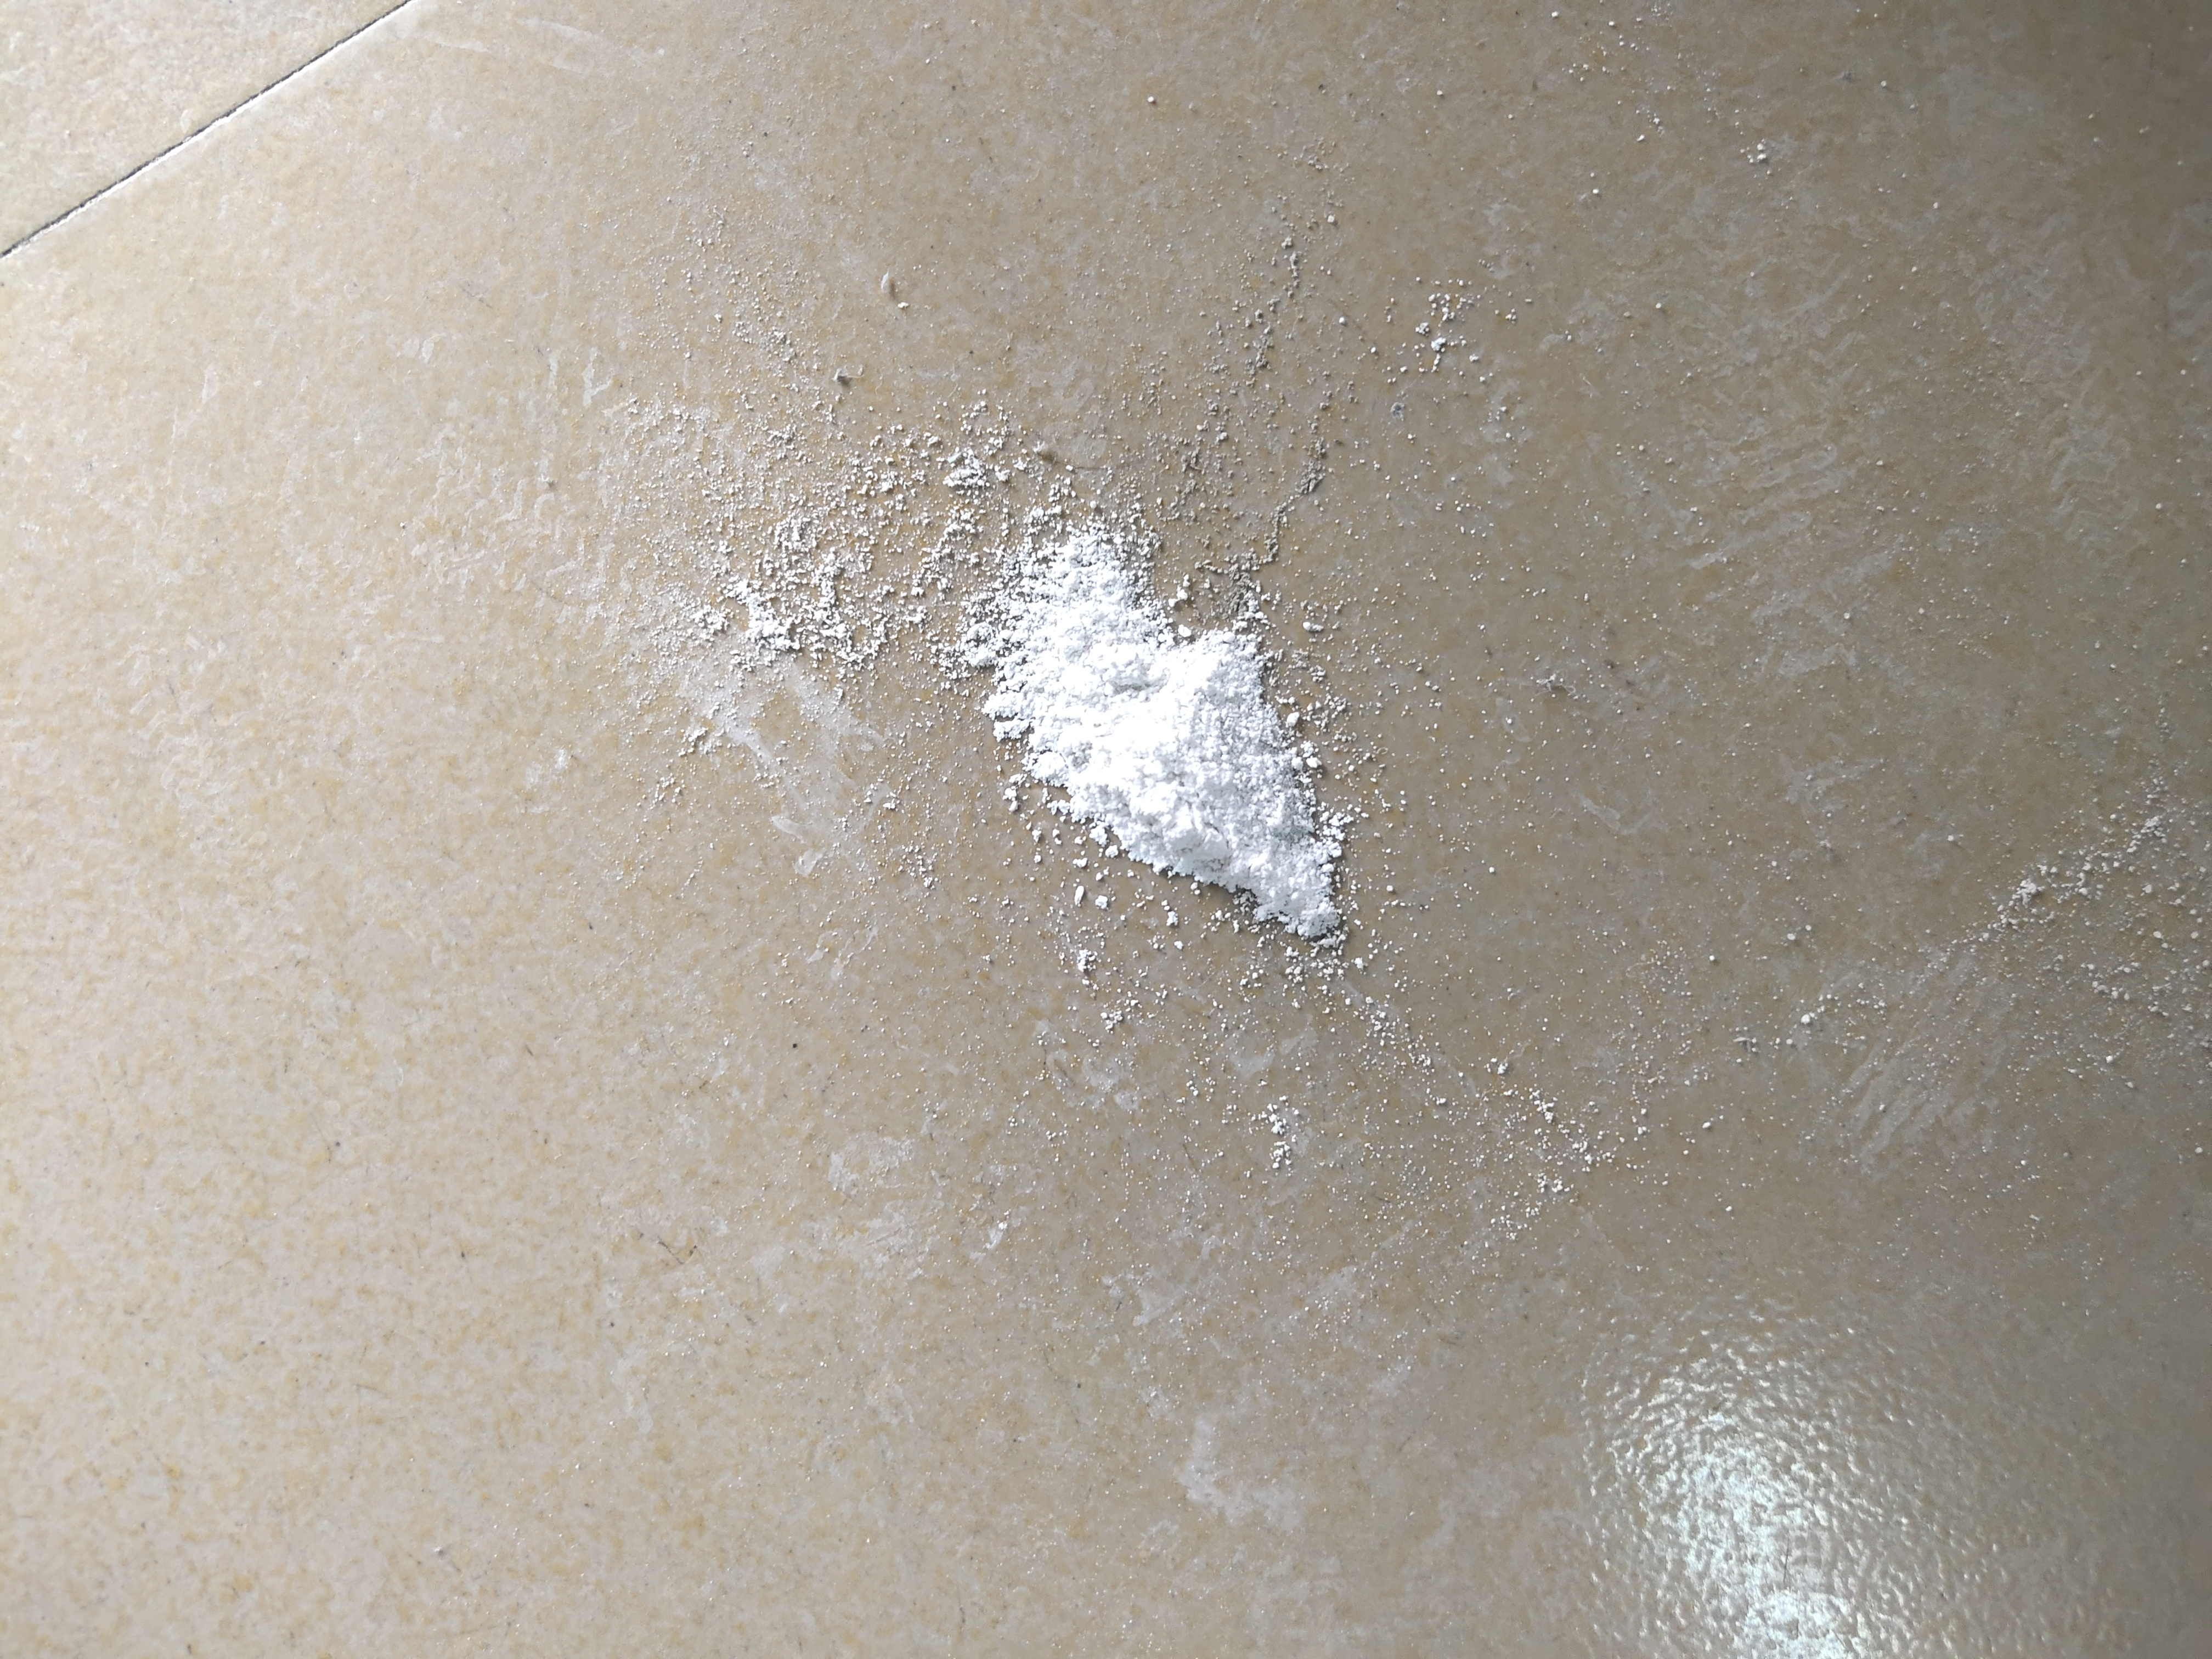ash pile: (718, 394, 1350, 946)
reflection: (1599, 1330, 1897, 1659)
